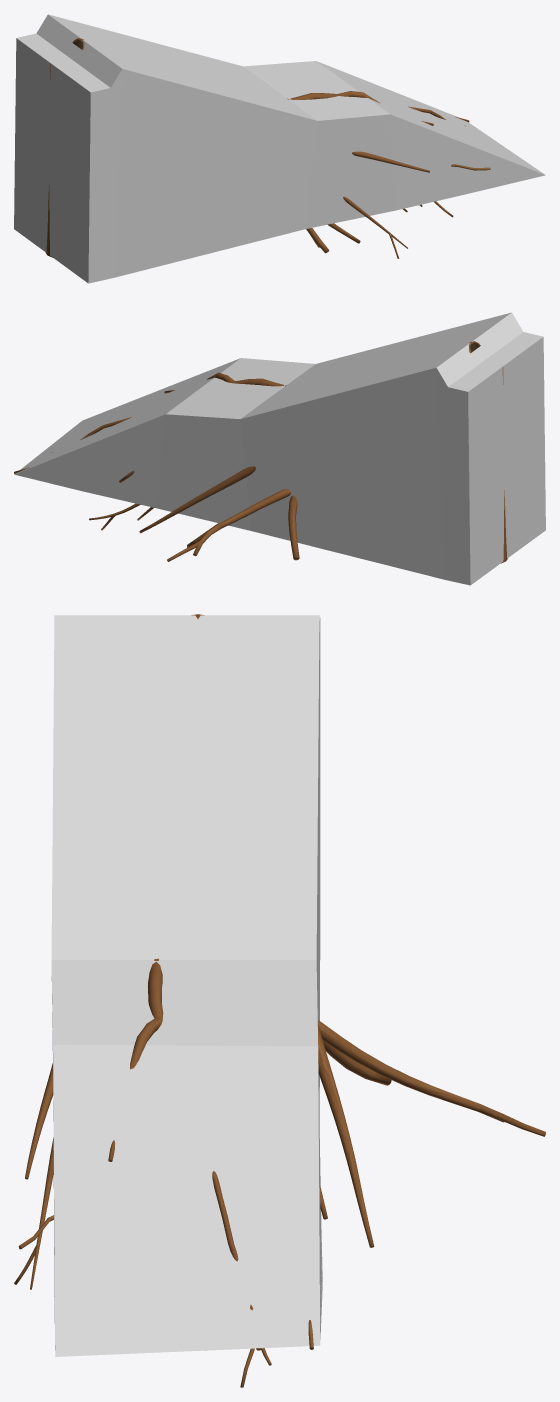
Rendered from Arbre_cassé.fbx.
3 renders of one model, top to bottom at view 1: azimuth 30°, elevation 25°; view 2: azimuth 150°, elevation 25°; view 3: azimuth 270°, elevation 25°, orthographic. The views are drawn at different scales.
Parts seen in each view (by area): view 1: Cube, tree; view 2: Cube, tree; view 3: Cube, tree.
Part boxes in pixels (x1=…): Cube: x1=14, y1=14, x2=545, y2=283; tree: x1=45, y1=38, x2=490, y2=258; Cube: x1=14, y1=312, x2=545, y2=585; tree: x1=14, y1=341, x2=507, y2=563; Cube: x1=51, y1=615, x2=322, y2=1356; tree: x1=14, y1=614, x2=545, y2=1387.
Bounding box in the file's own units: 1085 × 595 × 613.
1 material, 1 textured.
